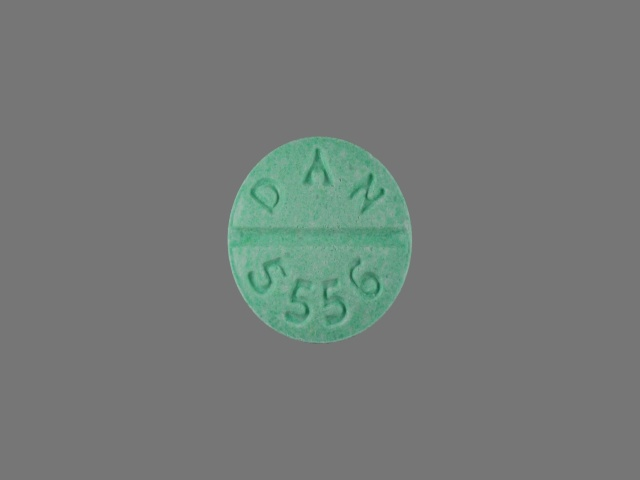5: (244, 255, 289, 297), (318, 274, 349, 327), (283, 275, 315, 326)
6: (345, 258, 389, 300)
A: (299, 144, 337, 188)
D: (245, 178, 283, 213)
N: (347, 172, 386, 218)
|: (222, 222, 416, 255)
